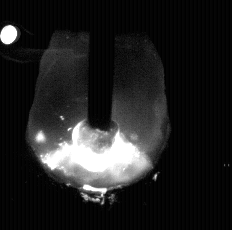arame: (89, 0, 113, 132)
poca: (27, 0, 171, 230)
